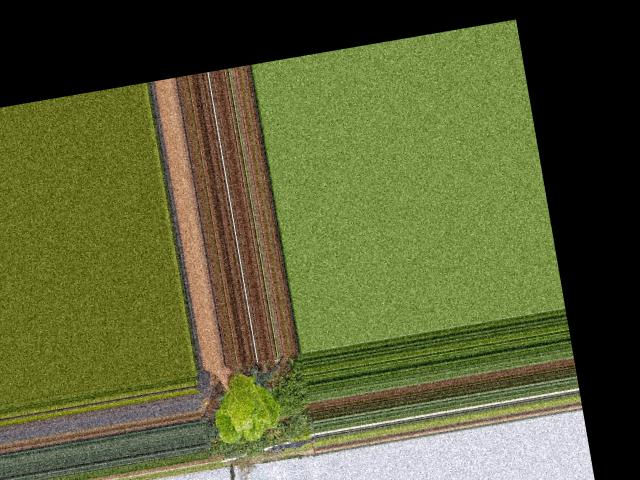lettuce: (204, 362, 286, 447)
